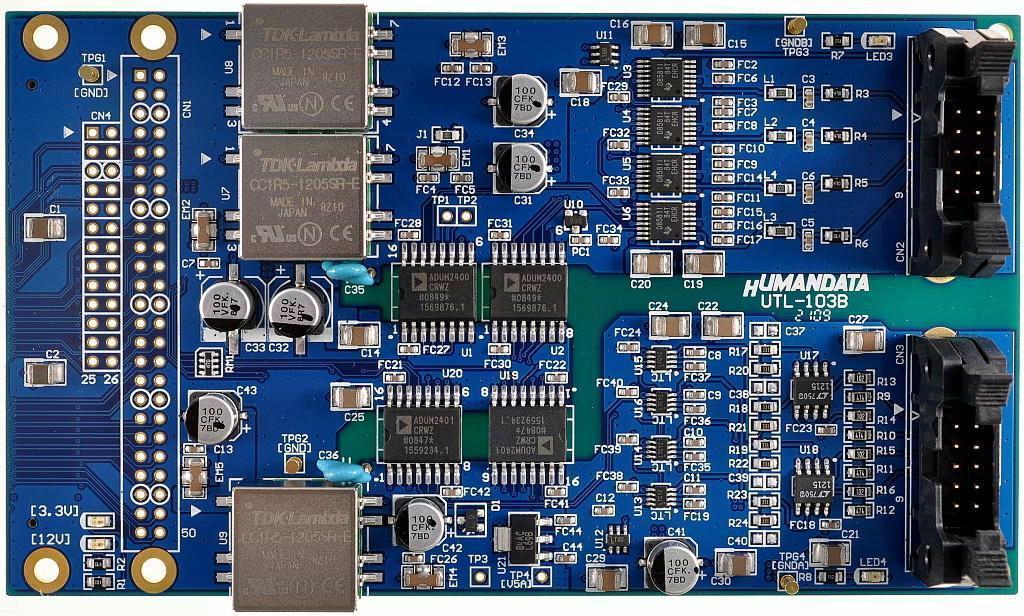Capacitor: (21, 214, 66, 241), (684, 246, 723, 277), (336, 320, 379, 348), (701, 313, 743, 341), (649, 311, 690, 338), (683, 21, 725, 47), (630, 250, 671, 276), (329, 383, 370, 409), (811, 540, 851, 566), (21, 358, 64, 382), (559, 70, 600, 95), (587, 564, 626, 590), (845, 327, 885, 352), (716, 550, 756, 575), (631, 23, 672, 47), (607, 184, 631, 200), (395, 227, 420, 241), (486, 341, 510, 355), (681, 435, 706, 448), (544, 484, 569, 497), (595, 234, 622, 246), (607, 139, 631, 152), (681, 483, 705, 496), (683, 358, 705, 372), (710, 157, 735, 169), (568, 233, 591, 246), (608, 90, 631, 103), (710, 234, 734, 246), (196, 256, 220, 268), (681, 498, 705, 510), (802, 85, 814, 109), (802, 128, 814, 151), (711, 191, 734, 203), (182, 441, 205, 453), (819, 517, 842, 529), (384, 369, 405, 382), (710, 219, 734, 230), (616, 385, 638, 397), (616, 344, 639, 355), (682, 347, 705, 358), (616, 433, 639, 444), (469, 62, 492, 73), (398, 343, 419, 355), (683, 388, 704, 400), (815, 422, 836, 434), (440, 484, 461, 496), (554, 513, 575, 525), (803, 179, 813, 204), (712, 107, 734, 118), (488, 229, 510, 240), (802, 228, 813, 250), (616, 481, 638, 492), (554, 550, 576, 561), (712, 57, 732, 69), (417, 172, 438, 183), (684, 451, 705, 462), (711, 144, 734, 154), (713, 119, 732, 131), (712, 207, 734, 217), (545, 371, 565, 382), (683, 403, 705, 413), (593, 505, 615, 515), (441, 62, 462, 72), (451, 171, 471, 181), (712, 74, 733, 83), (714, 96, 734, 105), (713, 173, 734, 181), (403, 553, 424, 560)
Connector: (119, 56, 177, 552), (907, 26, 1014, 279), (910, 330, 1010, 593), (81, 121, 120, 371)
Diode: (454, 503, 486, 538)
Electrolytic Capacitor: (267, 274, 332, 339), (200, 276, 265, 341), (384, 491, 444, 547), (644, 537, 698, 590), (493, 141, 548, 192), (187, 389, 238, 442), (493, 76, 546, 124), (323, 259, 376, 285), (319, 460, 372, 482)
IC: (216, 478, 380, 612), (223, 2, 391, 128), (223, 134, 391, 258), (396, 239, 476, 346), (380, 381, 461, 484), (486, 242, 566, 342), (488, 382, 564, 483), (492, 509, 551, 565), (633, 150, 696, 197), (632, 103, 696, 149), (788, 454, 835, 516), (634, 197, 694, 245), (786, 360, 834, 419), (634, 56, 696, 100), (643, 433, 677, 462), (643, 344, 675, 372), (642, 386, 675, 412), (602, 523, 629, 554), (644, 482, 675, 508), (589, 44, 618, 66), (562, 210, 589, 232)
Inductor: (763, 83, 795, 101), (763, 180, 796, 196), (764, 127, 795, 144), (763, 225, 795, 237)
Led: (862, 32, 895, 48), (82, 535, 114, 551), (83, 513, 113, 528), (858, 569, 887, 583)
Pads: (749, 323, 779, 338), (749, 379, 779, 394), (749, 474, 779, 488), (749, 531, 779, 545)
Resistor: (195, 347, 220, 375), (82, 572, 114, 590), (820, 83, 851, 101), (843, 500, 873, 518), (842, 482, 874, 498), (431, 126, 462, 142), (845, 370, 876, 386), (821, 32, 852, 48), (748, 492, 779, 508), (821, 127, 853, 142), (821, 175, 851, 191), (749, 455, 779, 471), (748, 341, 779, 356), (749, 398, 780, 413), (845, 463, 874, 479), (815, 567, 844, 583), (81, 555, 114, 569), (821, 227, 851, 242), (750, 416, 779, 431), (844, 445, 873, 460), (845, 388, 873, 403), (845, 426, 873, 441), (749, 437, 779, 451), (749, 512, 779, 526), (844, 408, 873, 422), (750, 362, 779, 375)
